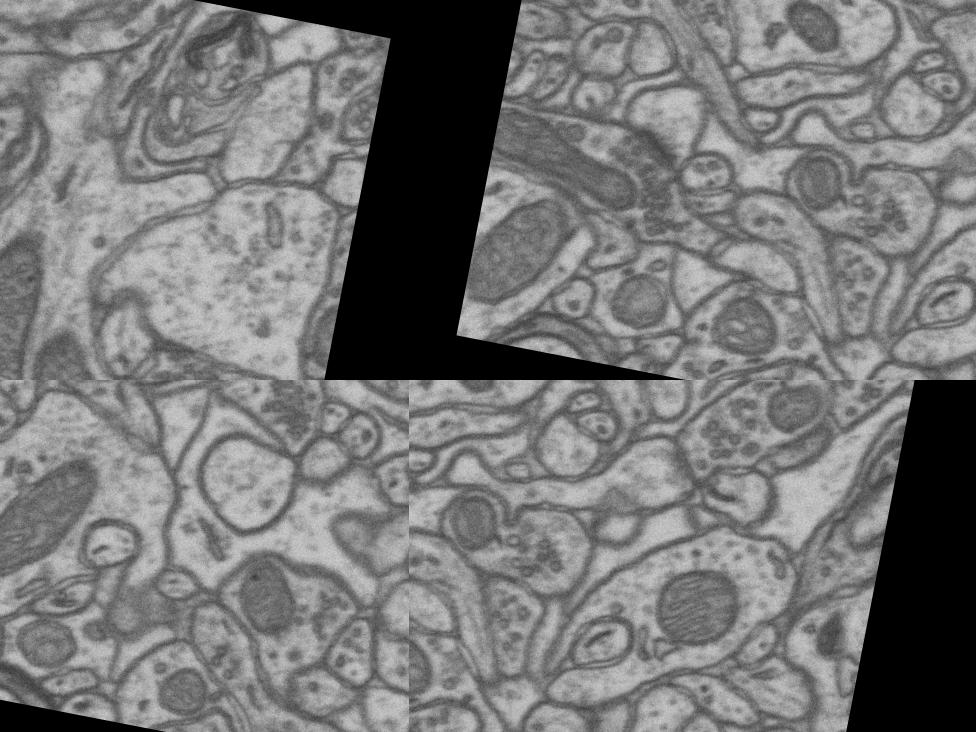mitochondria: (483, 98, 655, 227), (0, 434, 112, 603), (461, 176, 584, 328), (639, 552, 771, 668), (694, 282, 797, 372), (223, 550, 312, 650), (0, 224, 54, 380), (593, 254, 684, 344), (781, 143, 859, 232), (436, 484, 514, 572), (4, 604, 88, 683), (751, 380, 841, 450), (15, 321, 120, 380), (144, 654, 218, 728), (762, 0, 853, 60), (409, 622, 452, 712), (307, 292, 340, 366), (417, 380, 508, 400), (721, 722, 794, 732)
